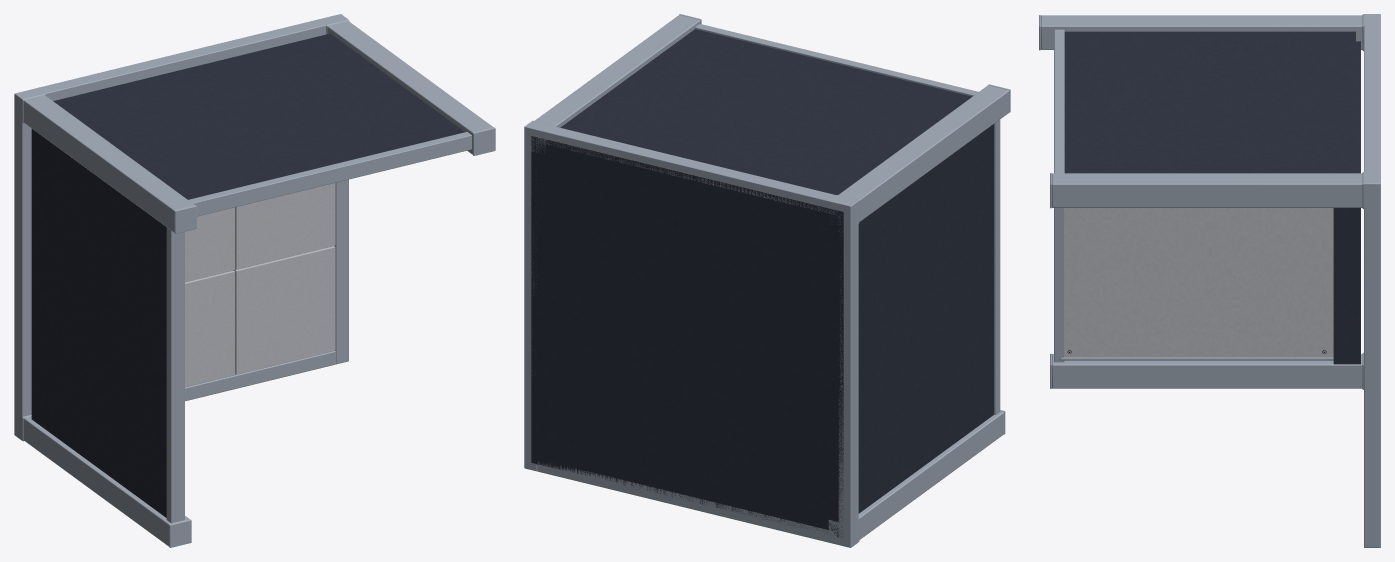
Rendered from room-module.glb.
3 renders of one model, left to right at view 1: azimuth 30°, elevation 25°; view 2: azimuth 150°, elevation 25°; view 3: azimuth 270°, elevation 25°, orthographic. The views are drawn at different scales.
Visible parts, largest first — view 1: Panel_Left_Core, Panel_Back_Core, FloorTile_2_0, Pylon_Corner, FloorTile_2_1, FloorTile_EdgeX-1, Panel_Left_TopRail, Panel_Back_TopRail, FloorTile_1_0, FloorTile_EdgeY1, Pylon_LeftEnd, Pylon_BackEnd (+3 smaller); view 2: FloorTile_Subfloor, Panel_Left_Core, Panel_Back_Core, Pylon_Corner, FloorTile_EdgeX-1, FloorTile_EdgeY1, Pylon_LeftEnd, FloorTile_EdgeY-1, Pylon_BackEnd, FloorTile_EdgeX1, Panel_Left_TopRail, Panel_Back_TopRail; view 3: Panel_Back_Core, Panel_Left_Face, Pylon_BackEnd, Pylon_LeftEnd, FloorTile_EdgeX1, Pylon_Corner, Skirting_Left, FloorTile_EdgeY1, Panel_Left_TopRail, Panel_Back_TopRail, Panel_Left_Edge-1, Skirting_Back.
Boxes of the visible parts, x1,y1,x2,y2 form: Panel_Left_Core: [31, 129, 166, 517]; Panel_Back_Core: [53, 33, 464, 199]; FloorTile_2_0: [234, 246, 335, 374]; Pylon_Corner: [23, 95, 195, 232]; FloorTile_2_1: [235, 183, 335, 269]; FloorTile_EdgeX-1: [14, 90, 33, 440]; Panel_Left_TopRail: [166, 227, 184, 523]; Panel_Back_TopRail: [188, 132, 471, 216]; FloorTile_1_0: [185, 270, 235, 387]; FloorTile_EdgeY1: [28, 17, 334, 100]; Pylon_LeftEnd: [23, 416, 189, 546]; Pylon_BackEnd: [327, 21, 493, 154]; FloorTile_Subfloor: [531, 136, 843, 537]; Panel_Left_Core: [858, 124, 993, 513]; Panel_Back_Core: [560, 29, 971, 194]; Pylon_Corner: [838, 85, 1009, 221]; FloorTile_EdgeX-1: [838, 197, 858, 547]; FloorTile_EdgeY1: [537, 124, 844, 215]; Pylon_LeftEnd: [858, 411, 1004, 539]; FloorTile_EdgeY-1: [537, 461, 837, 544]; Pylon_BackEnd: [535, 15, 700, 127]; FloorTile_EdgeX1: [524, 121, 543, 471]; Panel_Left_TopRail: [994, 119, 1000, 415]; Panel_Back_TopRail: [695, 24, 978, 96]; Panel_Back_Core: [1064, 31, 1355, 173]; Panel_Left_Face: [1064, 208, 1333, 357]; Pylon_BackEnd: [1052, 173, 1362, 207]; Pylon_LeftEnd: [1052, 354, 1362, 388]; FloorTile_EdgeX1: [1364, 177, 1380, 547]; Pylon_Corner: [1041, 15, 1362, 49]; Skirting_Left: [1333, 208, 1360, 364]; FloorTile_EdgeY1: [1364, 20, 1380, 177]; Panel_Left_TopRail: [1054, 208, 1064, 362]; Panel_Back_TopRail: [1054, 29, 1064, 173]; Panel_Left_Edge-1: [1060, 357, 1333, 360]; Skirting_Back: [1356, 41, 1360, 173].
Size of the model in its own units: 2 by 2 by 1.7.
Materials: 5 (4 with a texture image).
